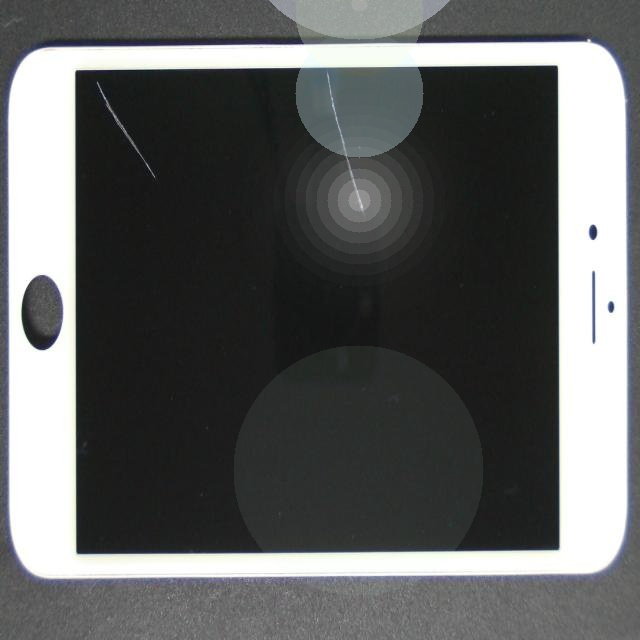scratch: (131, 0, 492, 176), (13, 0, 156, 177)
